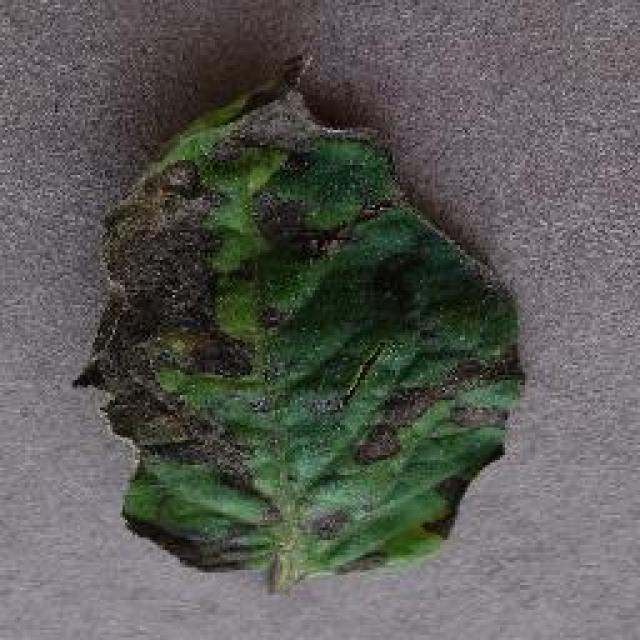Tomato Early blight leaf: (104, 64, 516, 598)
